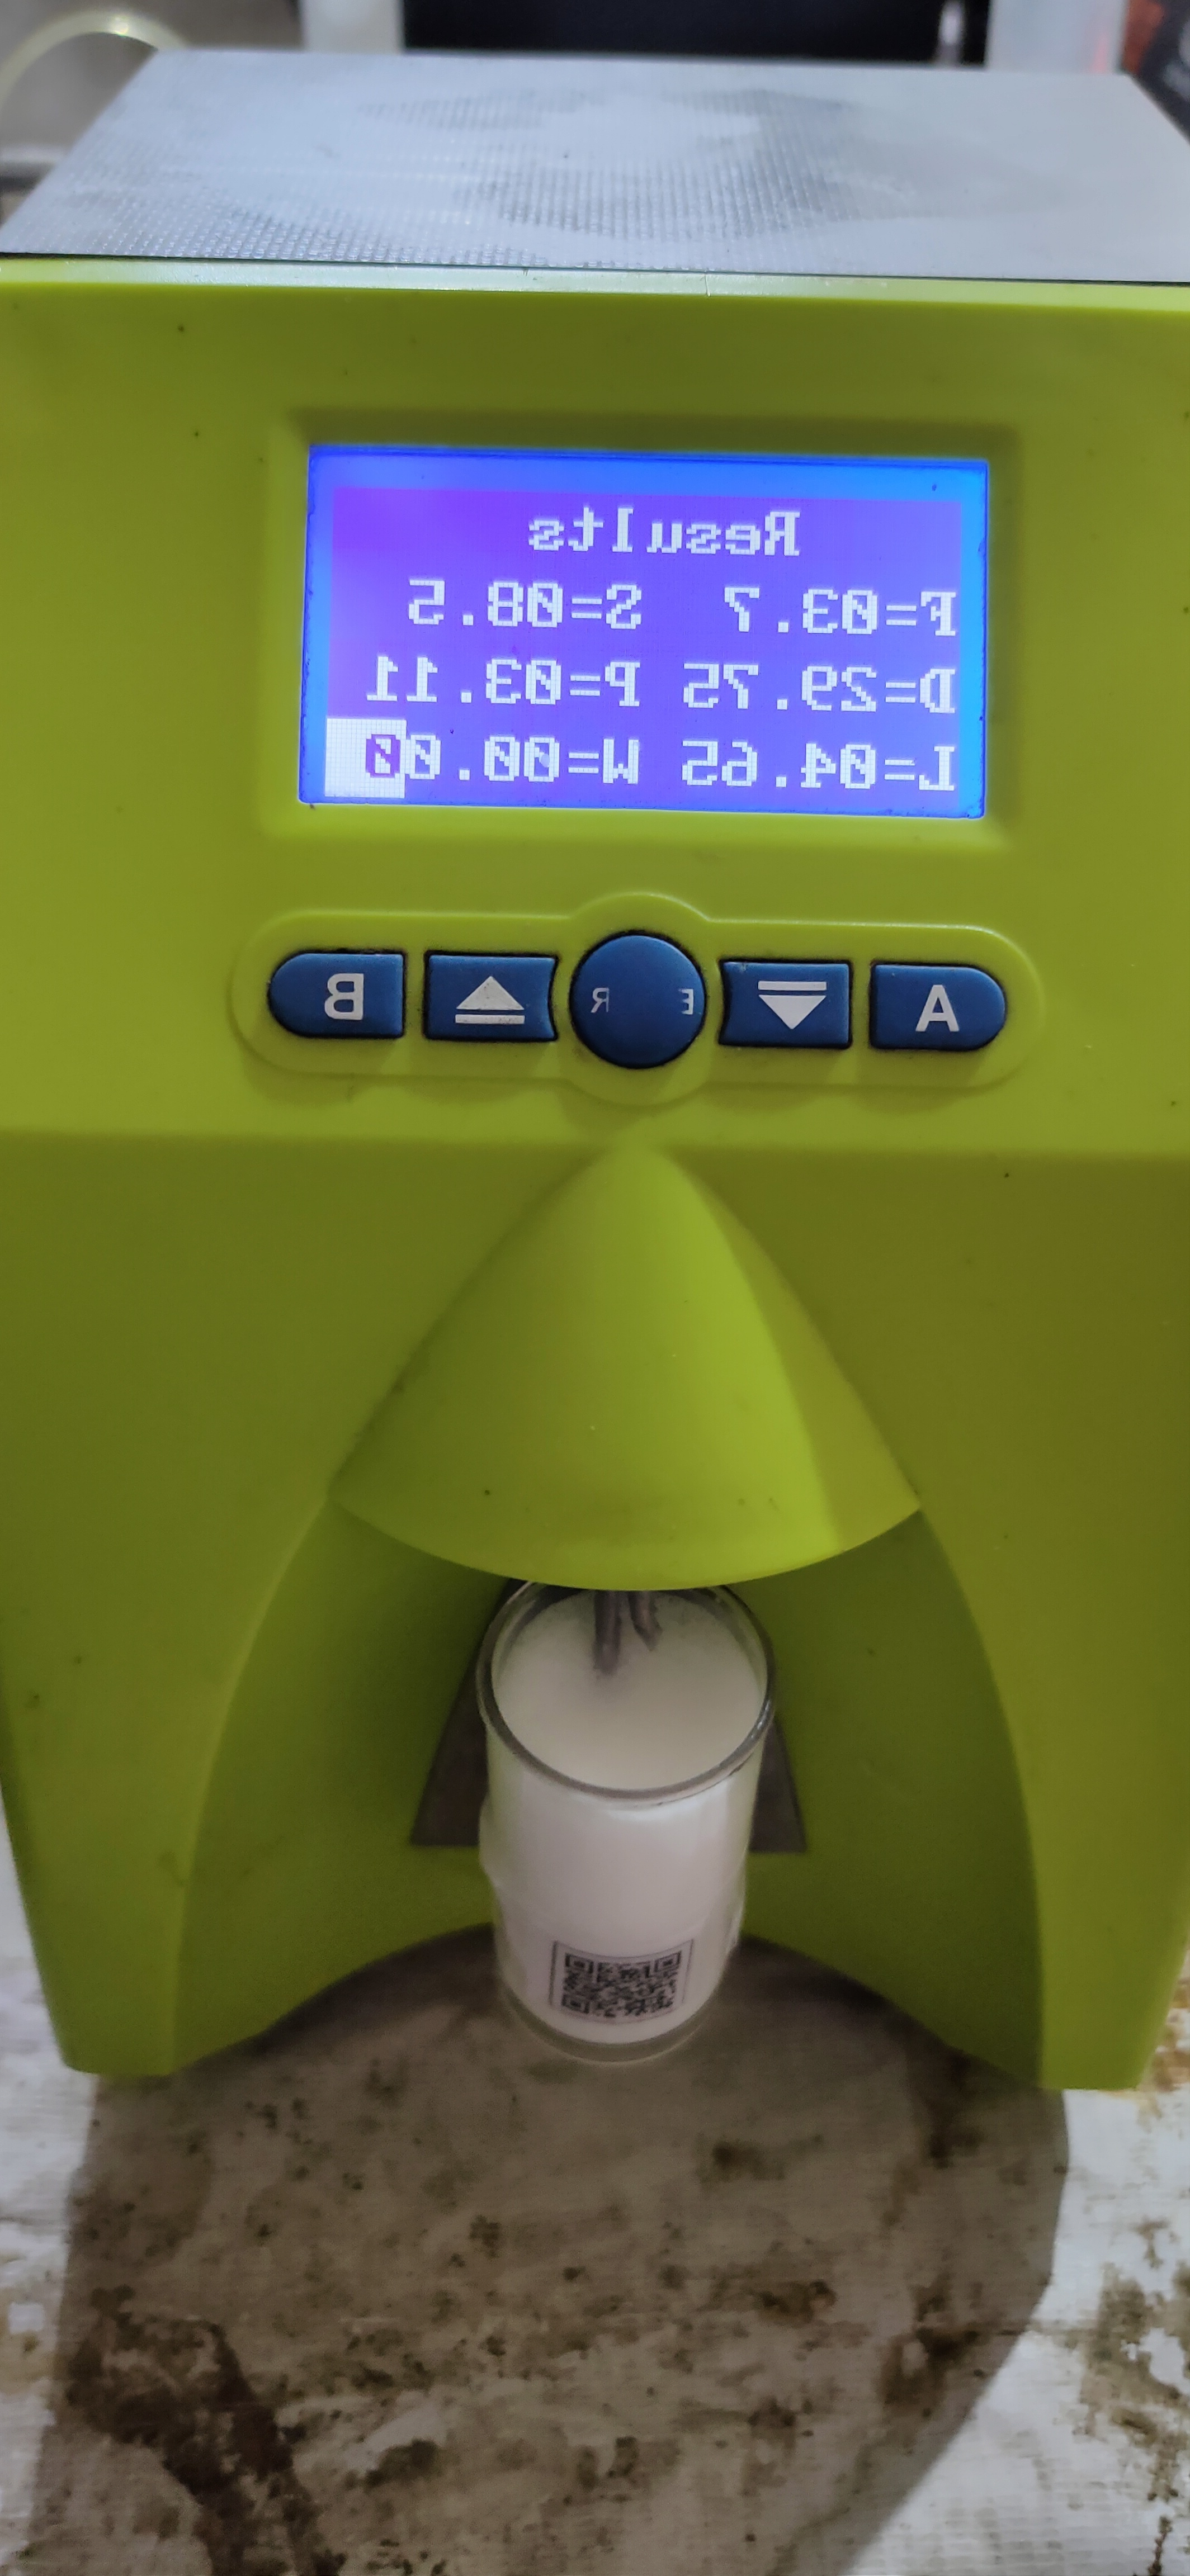lcd: (297, 426, 1012, 839)
qr: (541, 1919, 705, 2050)
